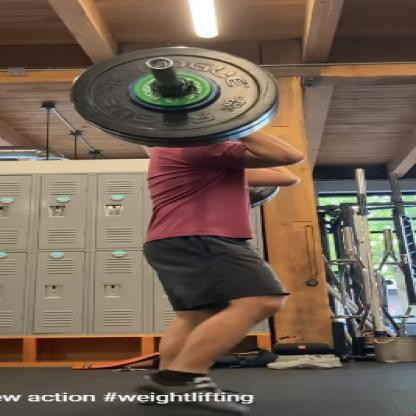barbell: (70, 47, 279, 147)
